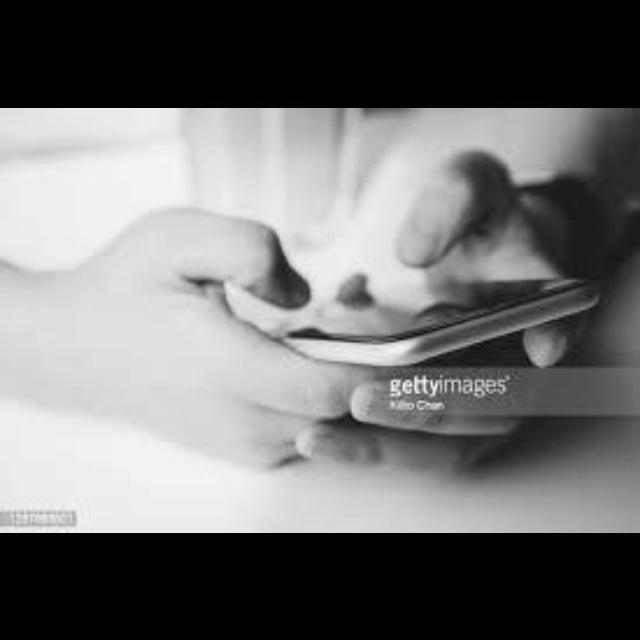fake: (204, 216, 618, 410)
